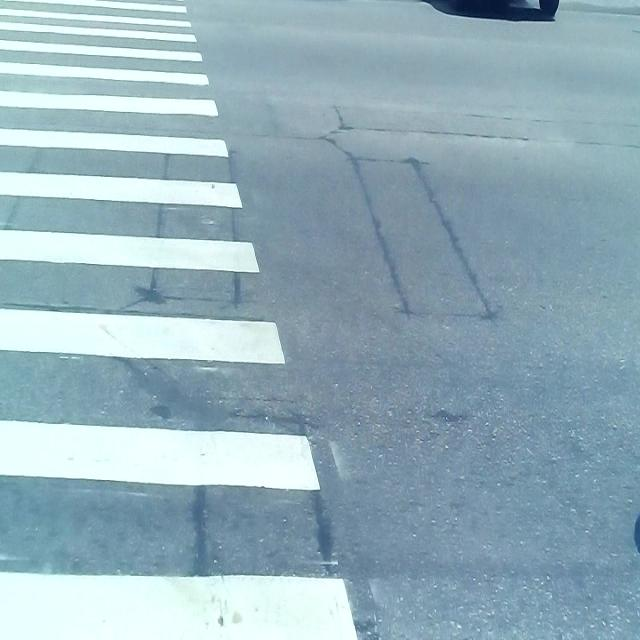crosswalk: (0, 0, 360, 640)
